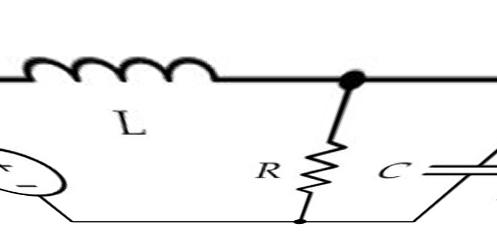inductor: (1, 43, 228, 99)
